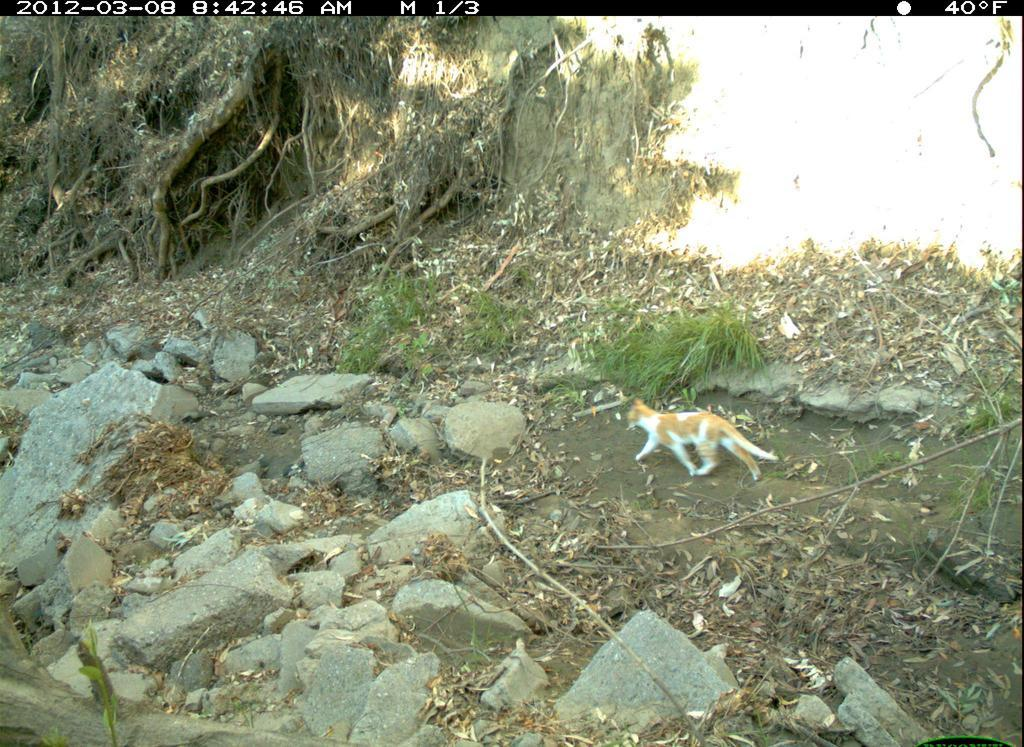cat: (617, 392, 786, 492)
